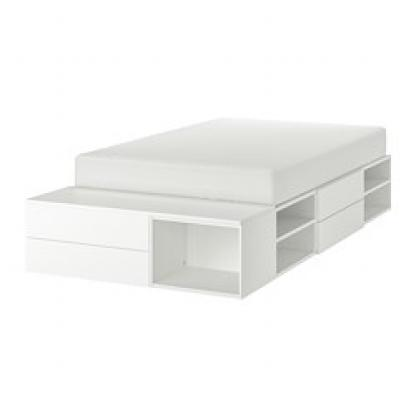Bed: (17, 80, 401, 308)
